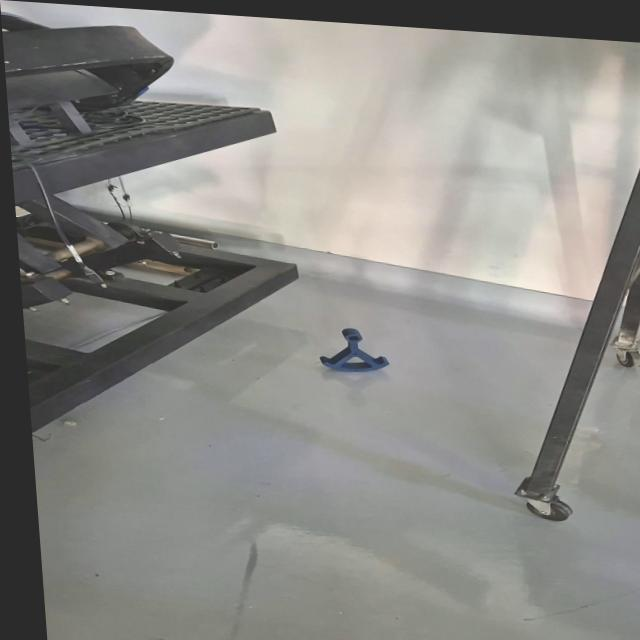haptic: (316, 325, 392, 376)
